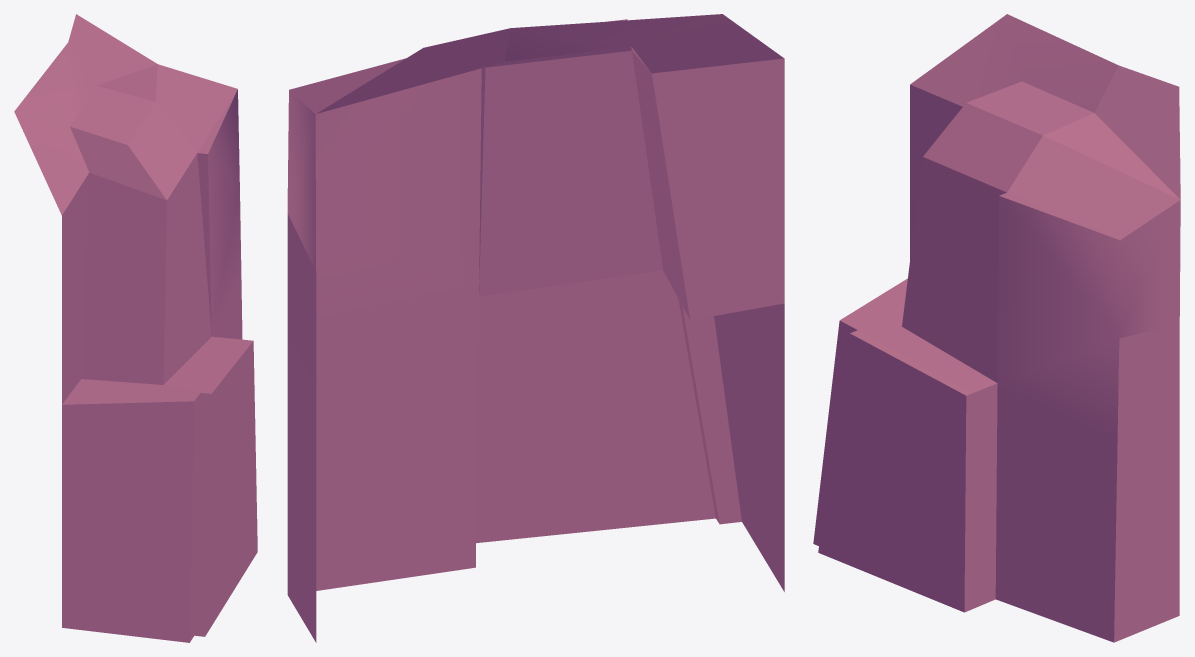
Rendered from Module_Diagonal_Corner_Mesh_02_v01_Wall.fbx.
3 renders of one model, left to right at view 1: azimuth 30°, elevation 25°; view 2: azimuth 150°, elevation 25°; view 3: azimuth 270°, elevation 25°, orthographic. The views are drawn at different scales.
Visible parts, largest first — view 1: Module_Diagonal_Corner_Mesh_02_v01_Wall; view 2: Module_Diagonal_Corner_Mesh_02_v01_Wall; view 3: Module_Diagonal_Corner_Mesh_02_v01_Wall.
Part boxes in pixels (box(x1,y1,x2,y2)): Module_Diagonal_Corner_Mesh_02_v01_Wall: box(14, 14, 257, 642); Module_Diagonal_Corner_Mesh_02_v01_Wall: box(287, 14, 784, 642); Module_Diagonal_Corner_Mesh_02_v01_Wall: box(813, 14, 1180, 642).
Size of the model in its own units: 248 by 404 by 273.
